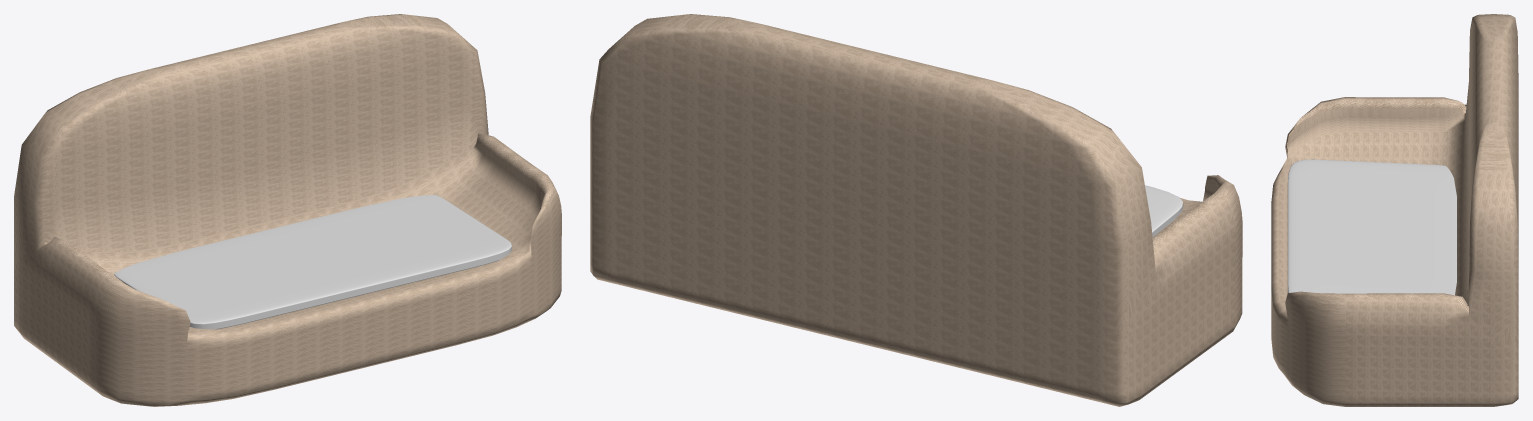
File: ExportedFBXFile.fbx
The picture shows the model from 3 angles, left to right: view 1: azimuth 30°, elevation 25°; view 2: azimuth 150°, elevation 25°; view 3: azimuth 270°, elevation 25°; orthographic projection. The views are drawn at different scales.
Visible parts, largest first — view 1: pCube3; view 2: pCube3; view 3: pCube3.
Boxes of the visible parts, x1,y1,x2,y2 form: pCube3: (14,14,561,406); pCube3: (590,14,1242,406); pCube3: (1271,14,1518,406).
Bounding box in the file's own units: 10.01 × 4.98 × 5.
